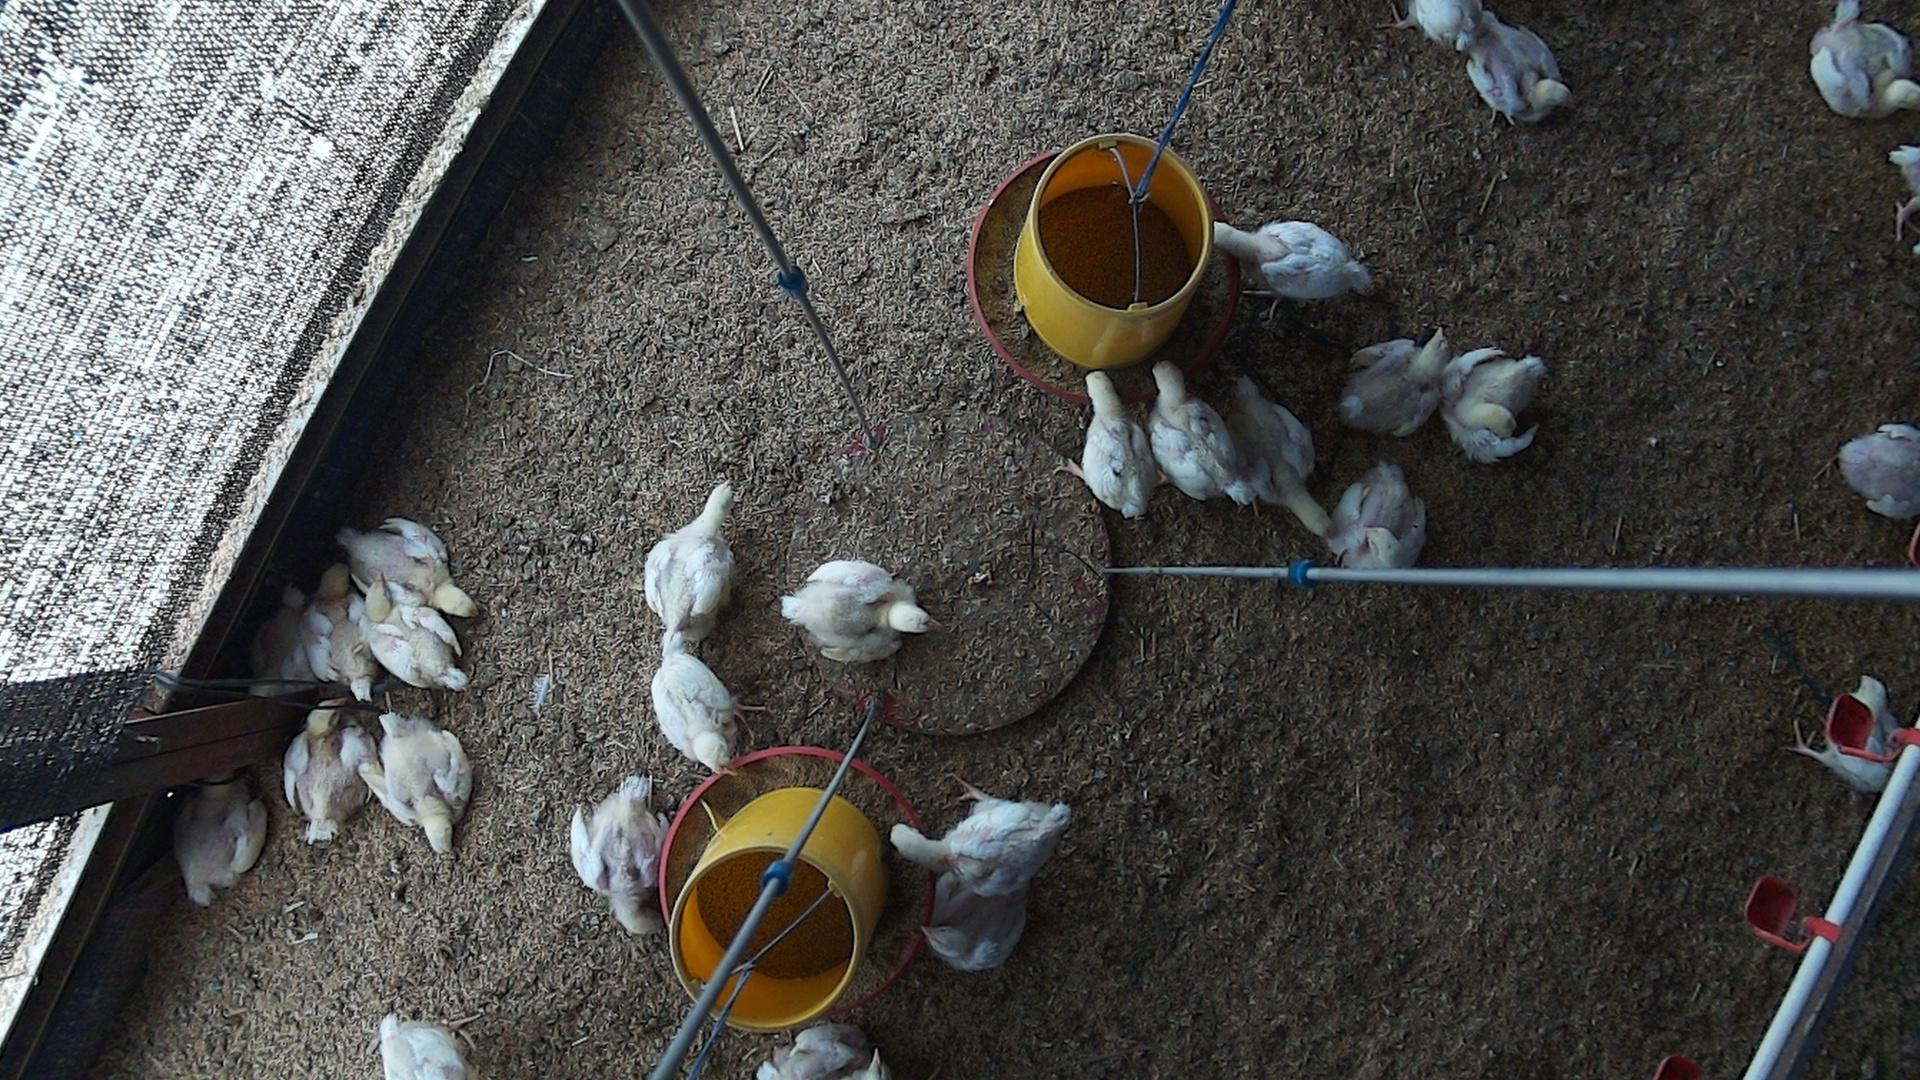ayam_broiler: (890, 791, 1068, 899), (1226, 373, 1328, 541), (566, 774, 669, 934), (781, 559, 927, 662), (646, 481, 732, 647), (367, 712, 468, 852), (1149, 361, 1247, 497), (285, 699, 377, 840), (339, 518, 472, 615), (1213, 219, 1370, 299), (349, 583, 468, 688), (1440, 342, 1544, 462), (1811, 0, 1917, 116), (1340, 328, 1452, 434), (1466, 8, 1571, 121), (174, 781, 265, 907), (653, 633, 732, 773), (1080, 371, 1154, 514), (920, 873, 1027, 972), (1329, 460, 1425, 570), (305, 562, 371, 700), (247, 585, 314, 698), (1840, 422, 1920, 516), (756, 1027, 893, 1080), (380, 1013, 467, 1080), (1398, 0, 1484, 53)
